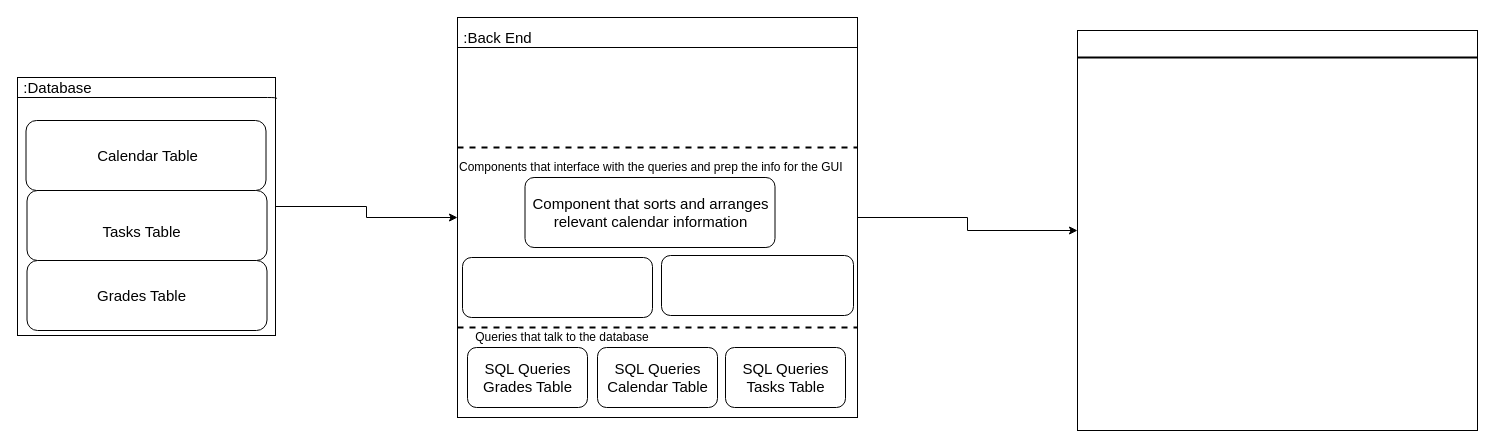
Image size: 1497x448. Some labels were removed from this diagram. Each missing label, with the centre of its shape:
":Front End" belongs at pixel 1277 230.
"Complete Grade Calculator That calculates averages for each class" belongs at pixel 557 287.
"Component that sorts and arranges all the relevant task information" belongs at pixel 757 285.
